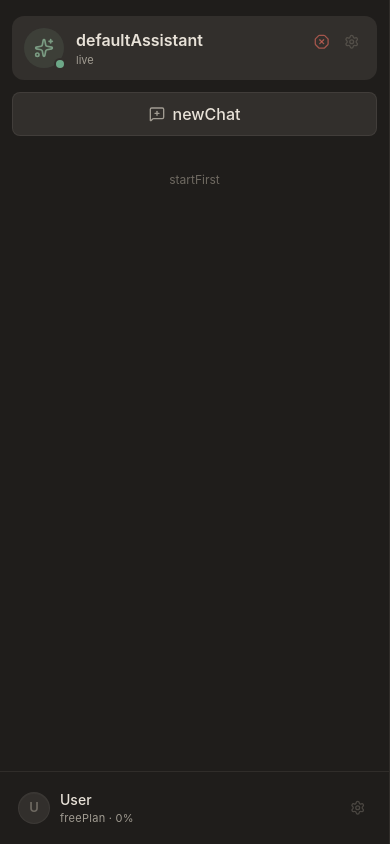
Sidebar — ADR-076 Slice 5 chat list skeleton › opens the restricted safety modal from the assistant card icon
This screenshot has width=390, height=844.
Click the button named "safetyRestrictedIconAria": (322, 42) top-left (308, 28), bottom-right (336, 56)
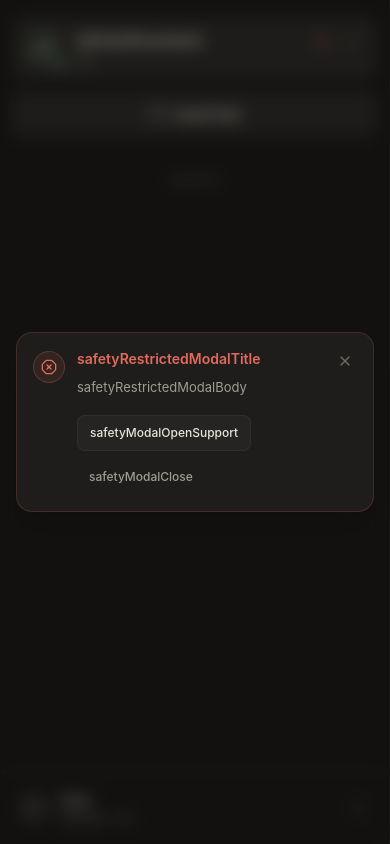
Now the text "safetyRestrictedModalTitle" is shown, box top-left (77, 350), bottom-right (260, 367)
